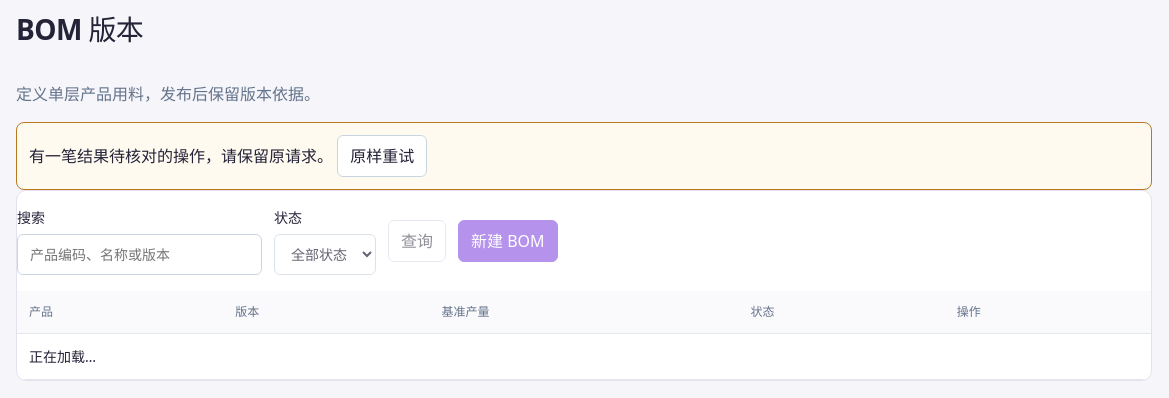
Test: invalidates a pending list read before retrying a rejected BOM write
Click the button "原样重试" at [382, 156], box x1=337 y1=135 x2=427 y2=177
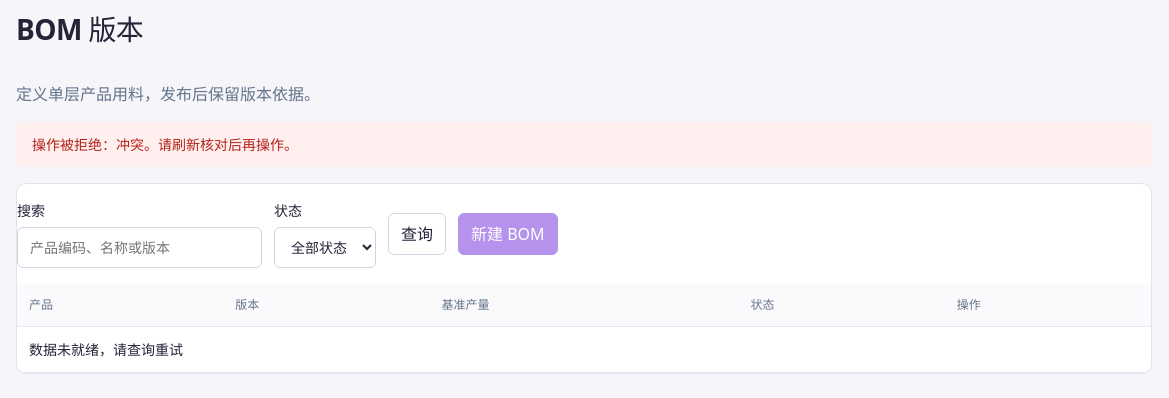
Check: the text "操作被拒绝" is shown, box x1=32 y1=135 x2=298 y2=154
